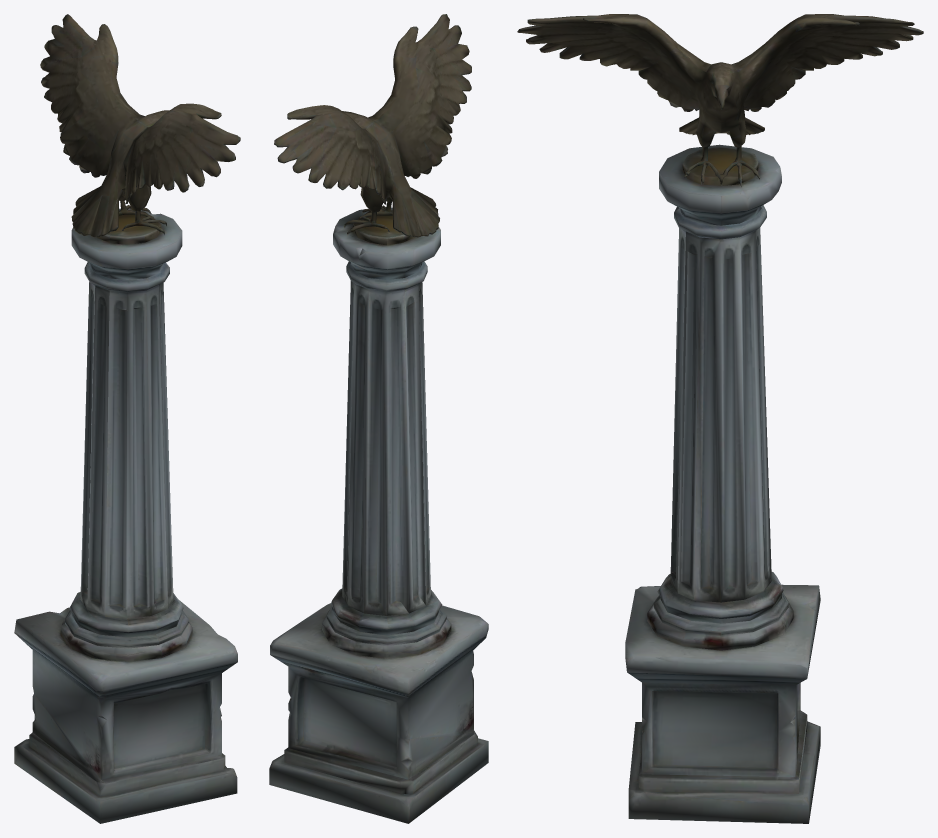
Rendered from eagle_column.glb.
3 views of the same model, side by side, from view 1: azimuth 30°, elevation 25°; view 2: azimuth 150°, elevation 25°; view 3: azimuth 270°, elevation 25° (orthographic). The views are drawn at different scales.
Visible parts, largest first — view 1: model; view 2: model; view 3: model.
Boxes of the visible parts, left/top/right/bottom form: model: left=14, top=14, right=240, bottom=823; model: left=269, top=14, right=488, bottom=823; model: left=517, top=14, right=923, bottom=823.
Size of the model in its own units: 0.2172 by 1 by 0.4716.
Materials: 1 (1 with a texture image).
